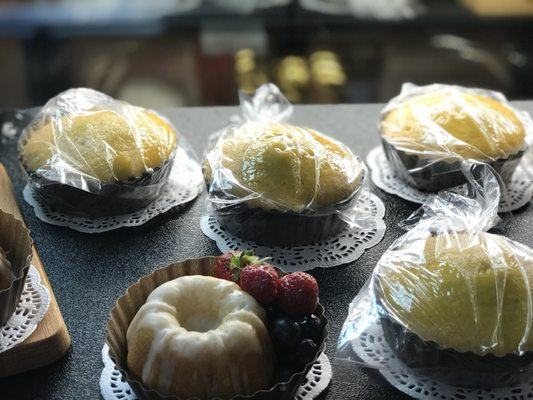curry: (9, 87, 532, 399)
salad: (125, 275, 278, 400)
